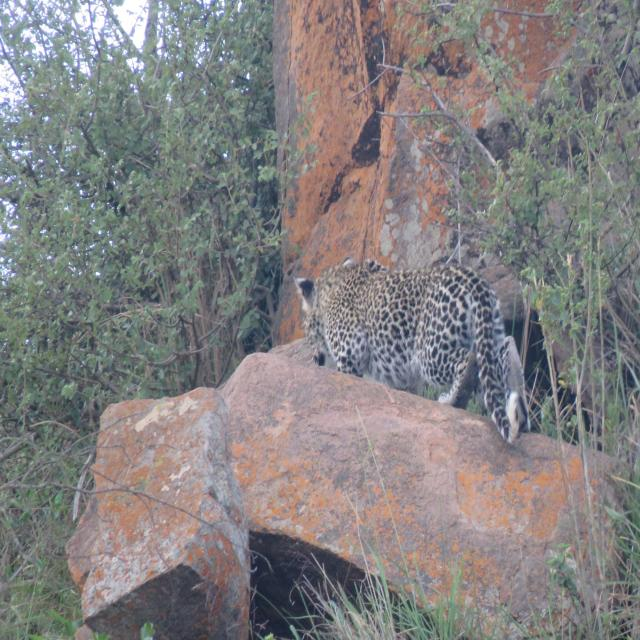Leopard: (295, 258, 548, 428)
